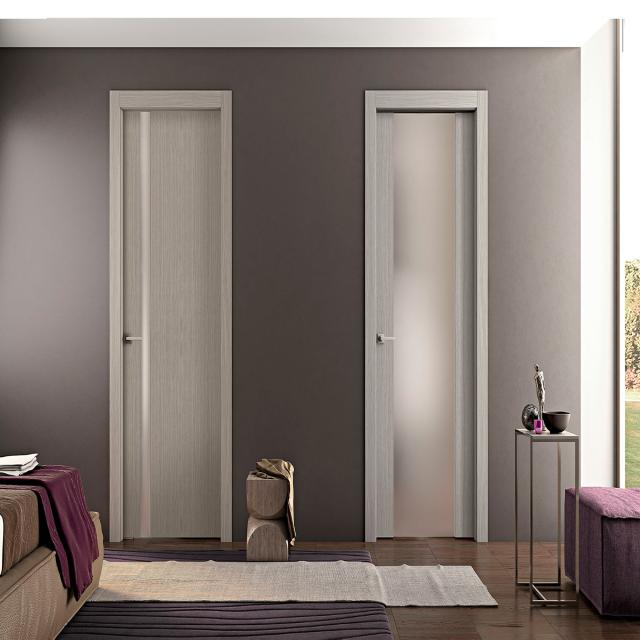close: (364, 92, 488, 546), (110, 93, 228, 543)
